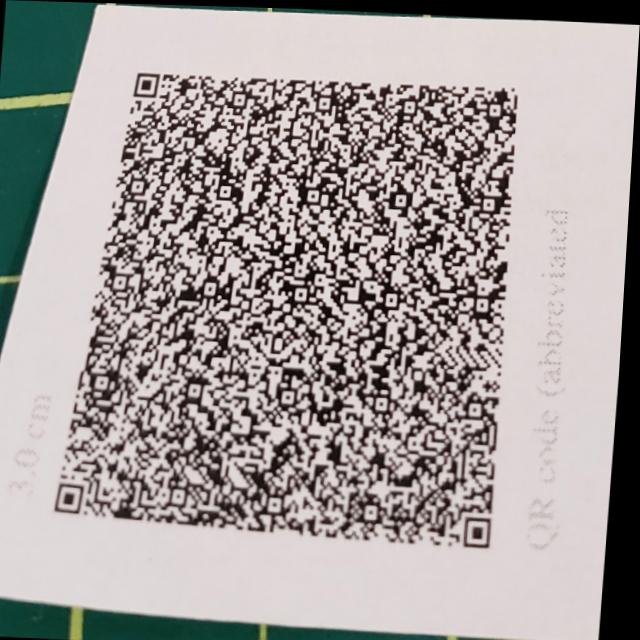QR_CODE: (49, 42, 566, 572)
